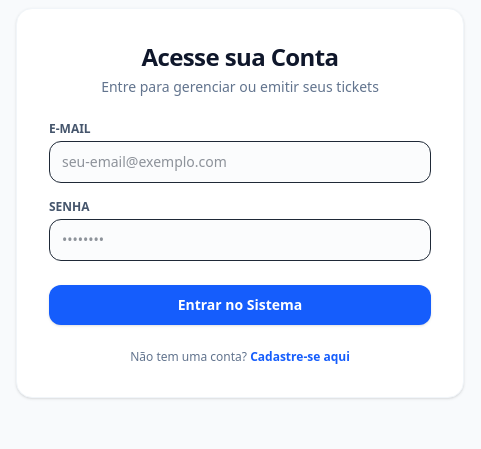
Login — página › exibe mensagem de erro genérica quando não há response
Type "x@x.com" into the field with placeholder "seu-email@exemplo.com" at coordinates (240, 162), box [49,140,431,182]
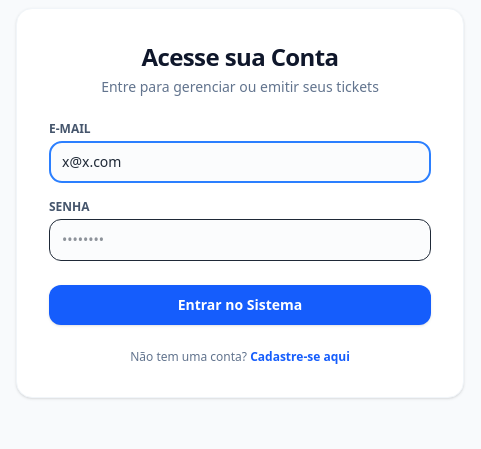
Type "pass" into the password field with placeholder "••••••••" at coordinates (240, 240), box [49,218,431,260]
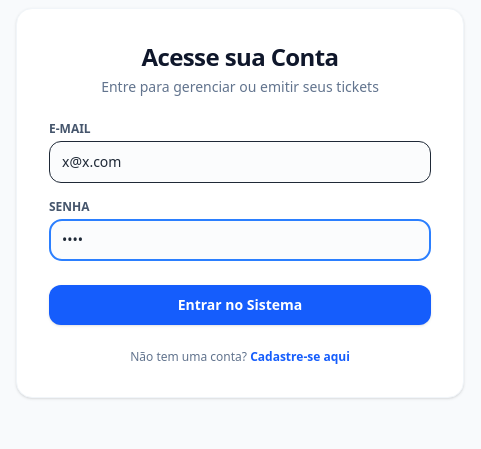
Click the button "Entrar no Sistema" at coordinates (240, 304), box [49,284,431,324]
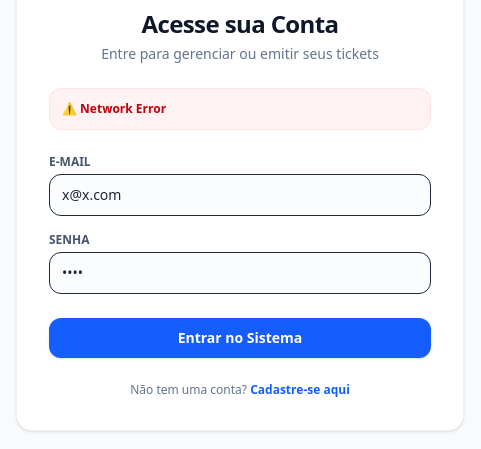
Expected: the text "⚠️ Network Error" is shown, [49,88,431,130]
